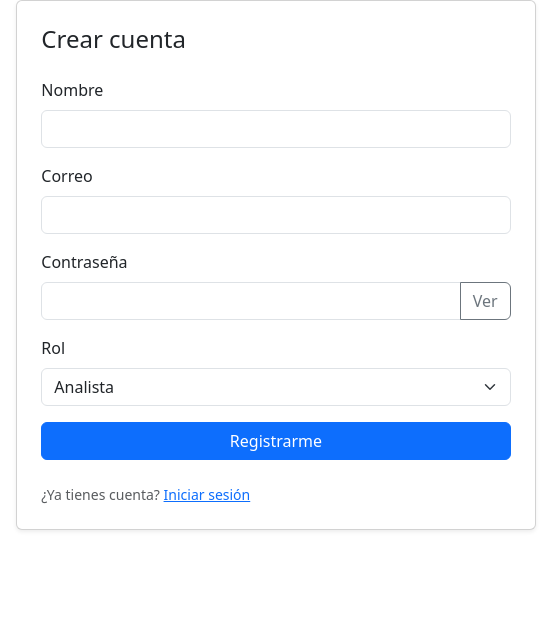
Test: Registro › muestra el error del servidor (correo ya registrado) y no inicia sesión
The width and height of the screenshot is (553, 623).
Type "Eva Nueva" into the field labelled "Nombre" at [276, 129], box [41,110,511,148]
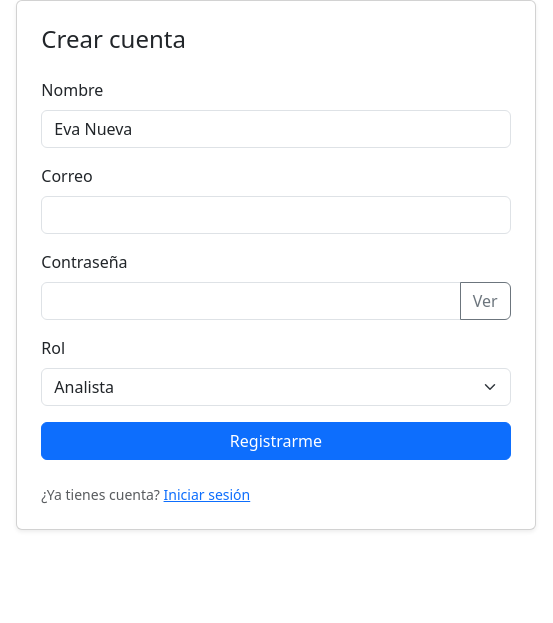
Type "eva@ejemplo.cl" into the field labelled "Correo" at [276, 215], box [41,196,511,234]
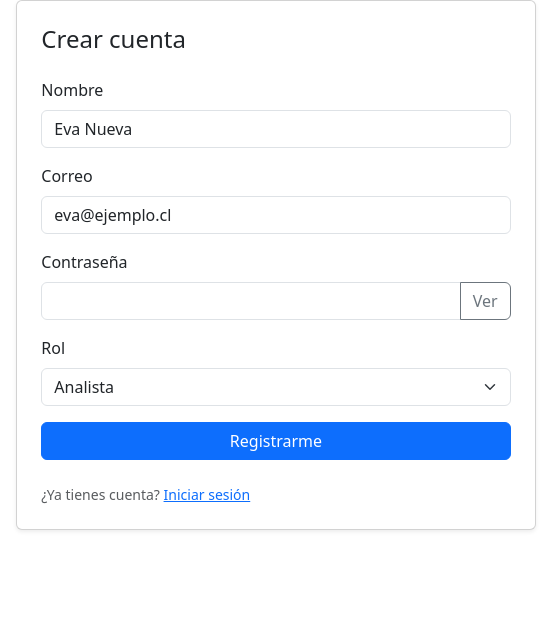
Type "secreto123" into the password field labelled "Contraseña" at [251, 301], box [41,282,461,320]
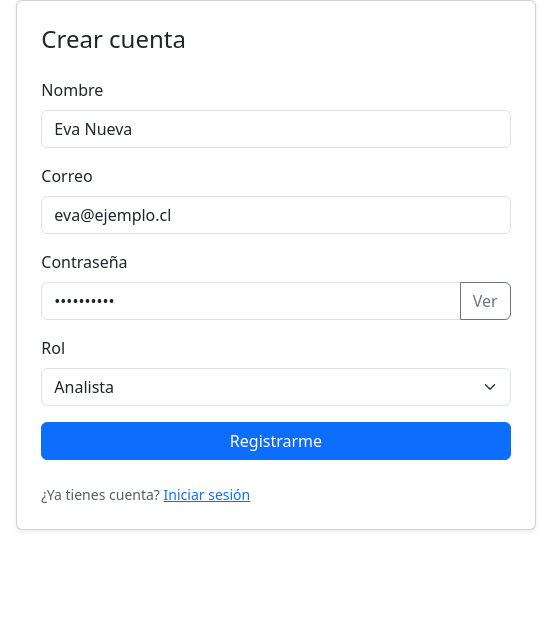
Click the button "Registrarme" at [276, 441], box [41,422,511,460]
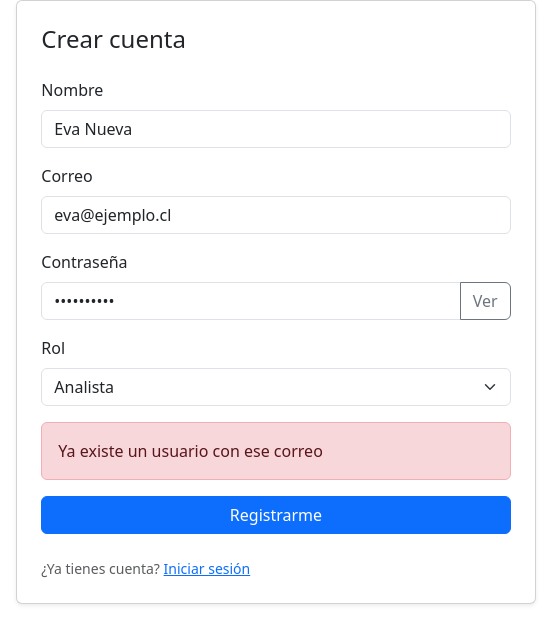
Expected: the text "Ya existe un usuario con ese correo" is shown, [41,422,511,480]
